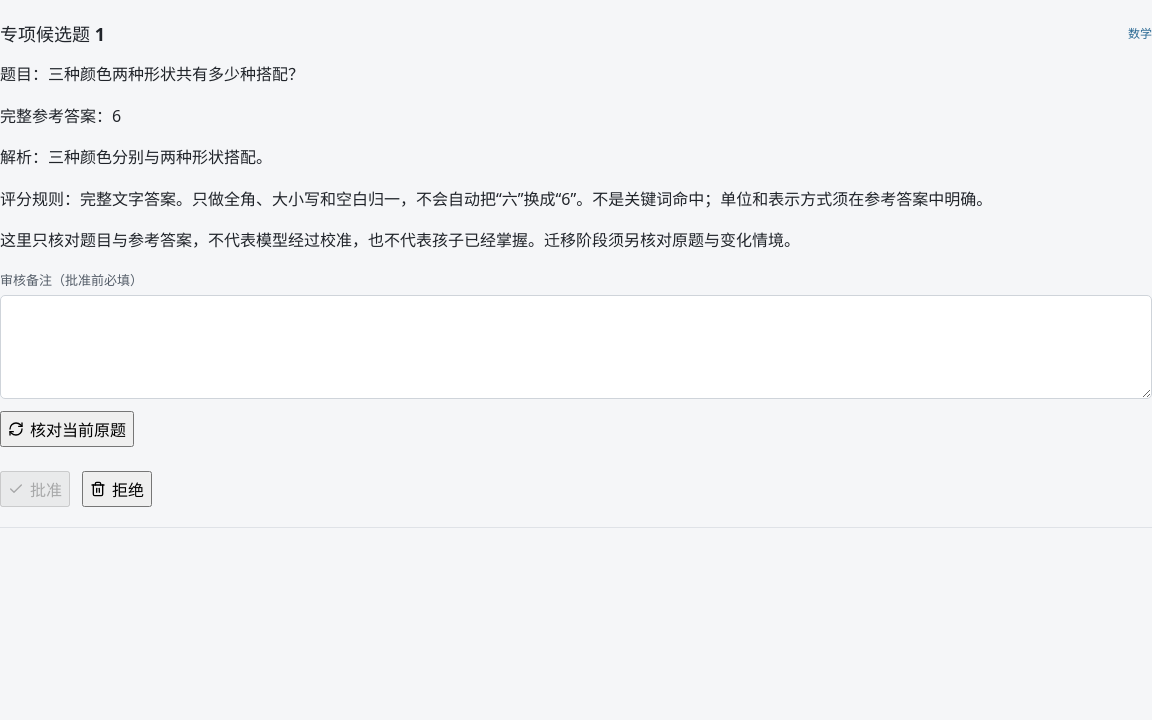
Test case: recovers a lost committed response after remount even when candidate left the pending list using GET only
The width and height of the screenshot is (1152, 720).
Later steps or results of the test are not shown.
Type "已独立核对完整参考答案和题意。" into the text box named "专项候选题1审核备注" at (576, 347), box [0,295,1151,399]
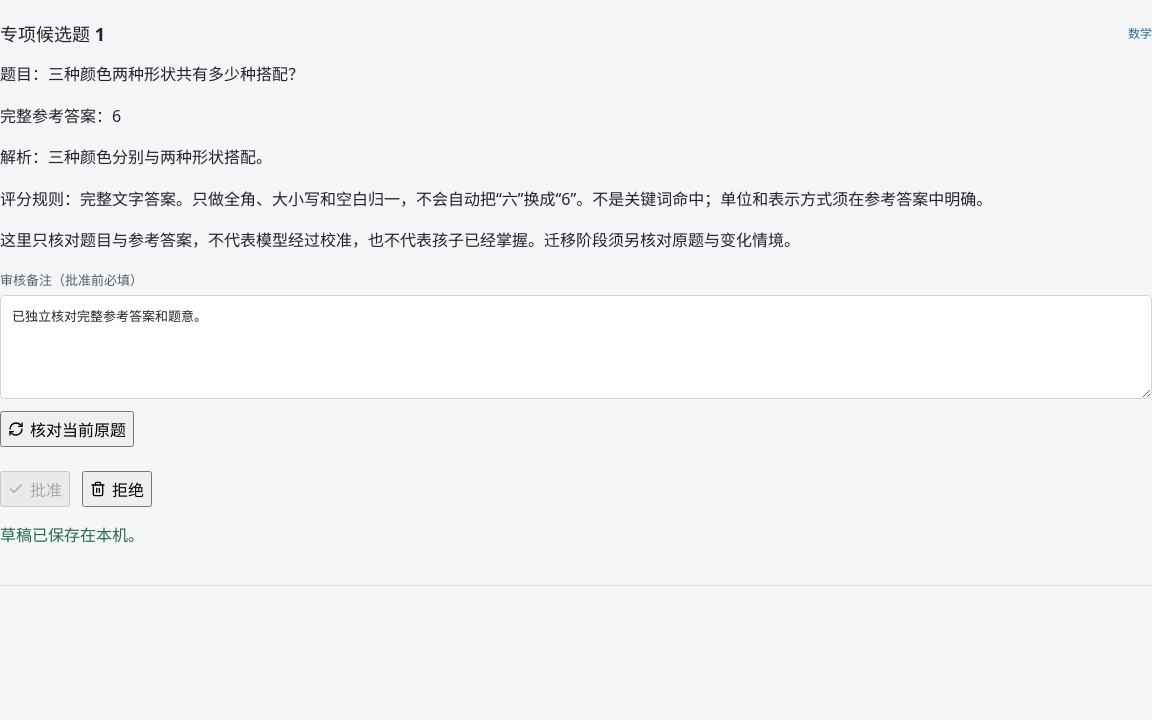
Click the button "核对当前原题" at (67, 429), box [0,411,134,447]
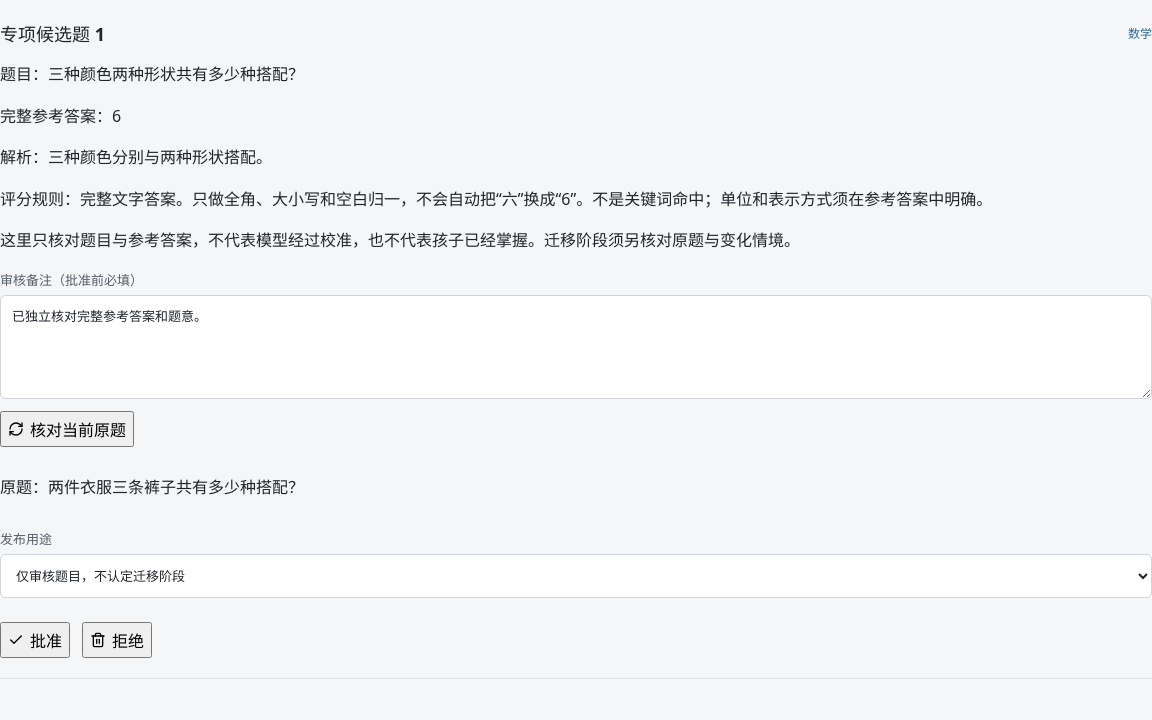
Now the text "两件衣服三条裤子共有多少种搭配？" is shown, box [48,476,304,498]
Now the button "批准" is enabled
Click the button "批准" at (35, 640), box [0,622,70,658]
(page scrolled)
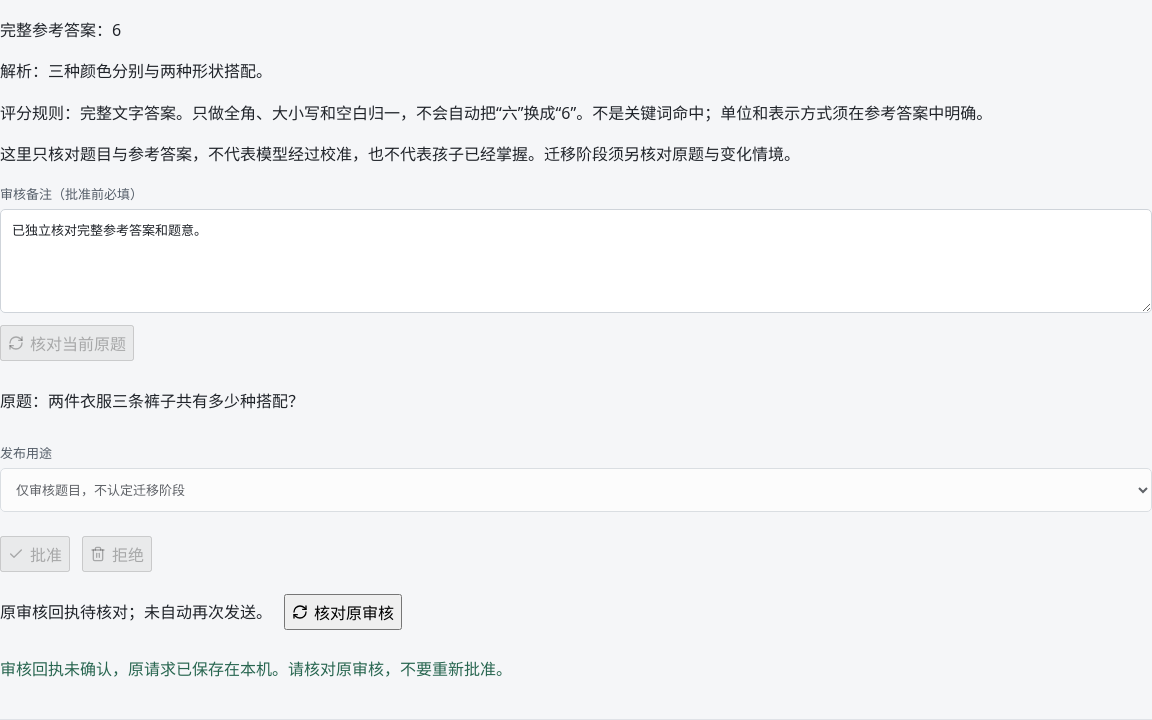
Now the text "审核回执未确认，原请求已保存在本机。请核对原审核，不要重新批准。" is shown, box [0,658,512,680]
